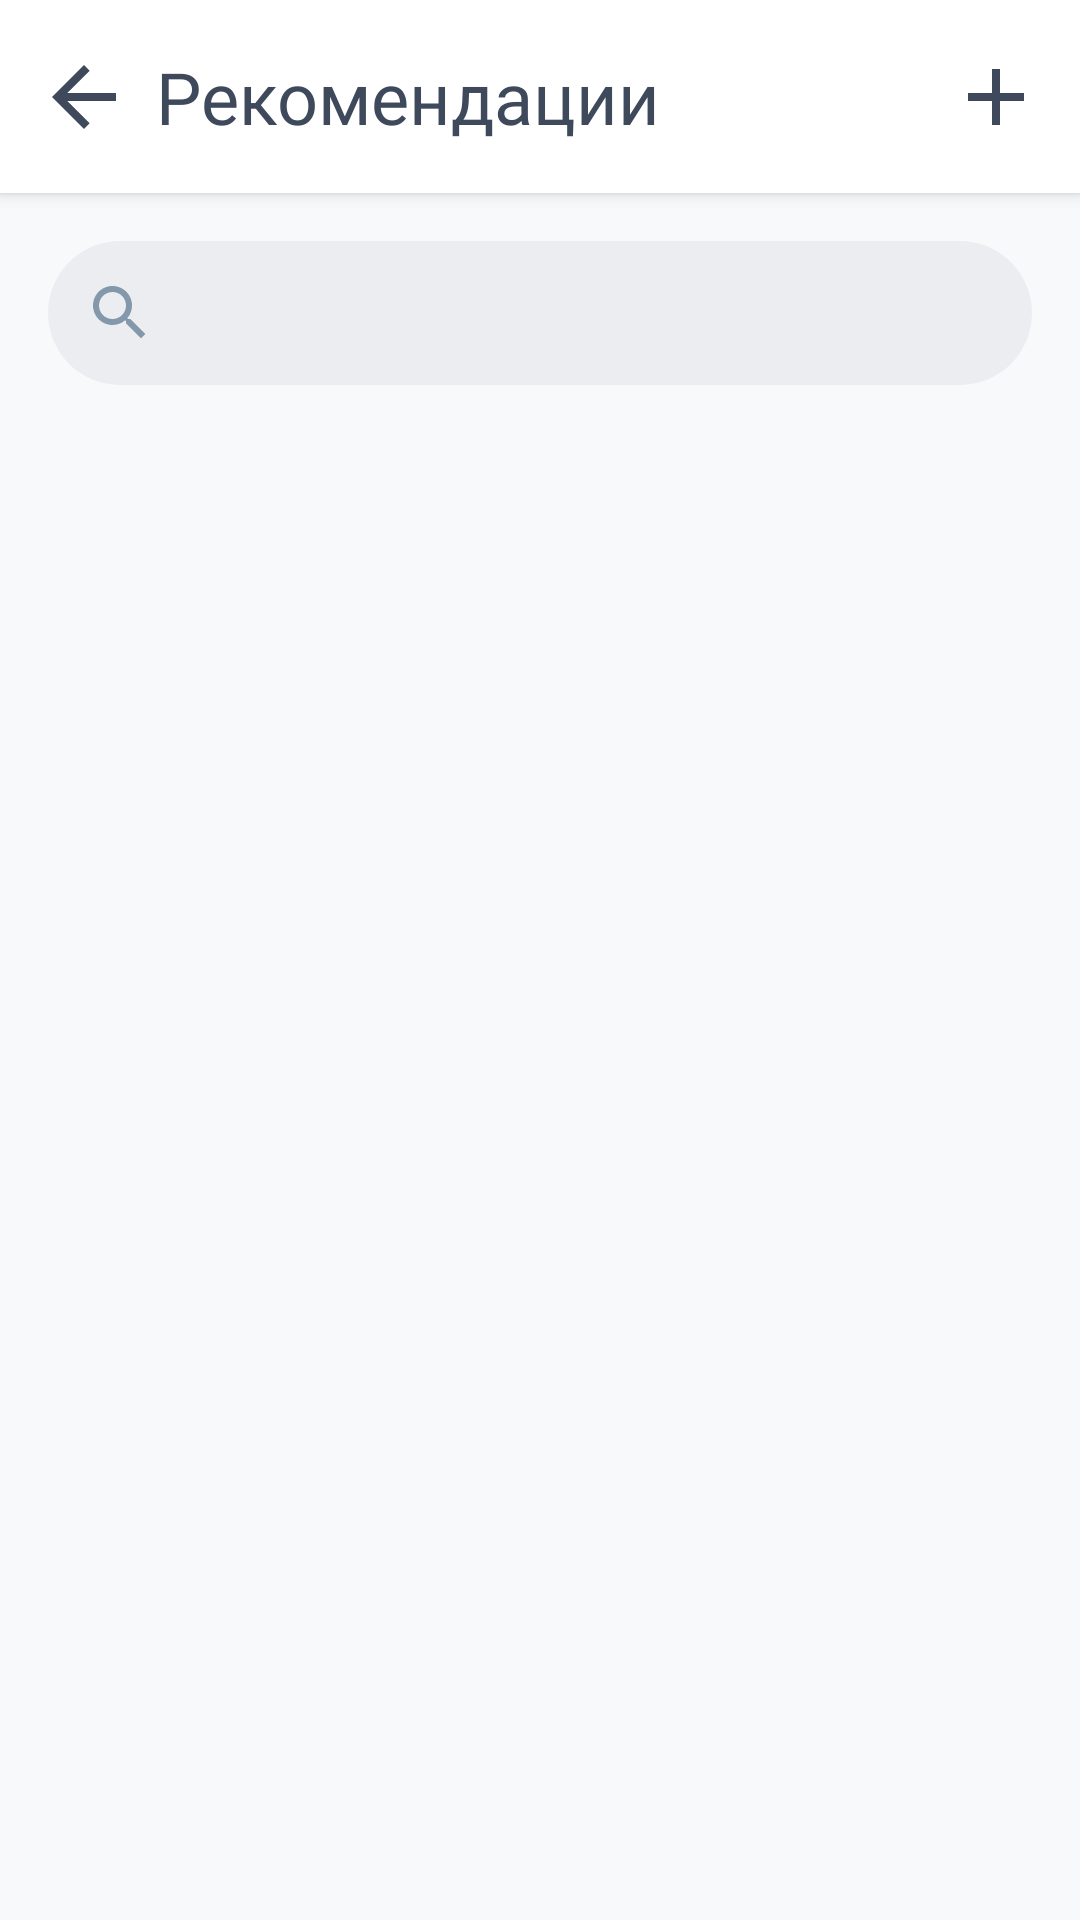

Where icons sit on this 1080*1920 app screen, as (x1, y1, x2, y2):
add: (968, 69, 1024, 125)
back arrow: (52, 65, 116, 129)
